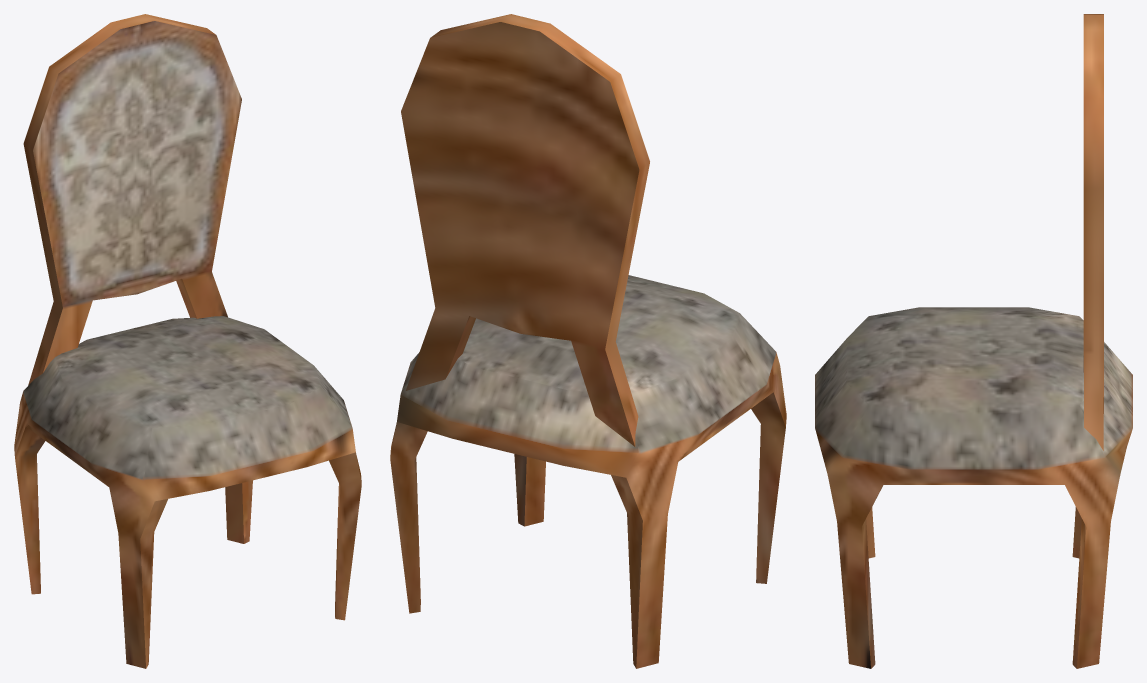
The model's file is Chair_01-col.glb.
The picture shows the model from 3 angles, left to right: view 1: azimuth 30°, elevation 25°; view 2: azimuth 150°, elevation 25°; view 3: azimuth 270°, elevation 25°; orthographic projection. The views are drawn at different scales.
Parts seen in each view (by area): view 1: Chair_01-col; view 2: Chair_01-col; view 3: Chair_01-col.
Part boxes in pixels (x1=…): Chair_01-col: x1=14, y1=14, x2=361, y2=668; Chair_01-col: x1=390, y1=14, x2=786, y2=668; Chair_01-col: x1=815, y1=14, x2=1132, y2=668.
Size of the model in its own units: 0.6607 by 1.35 by 0.6607.
Materials: 1 (1 with a texture image).
